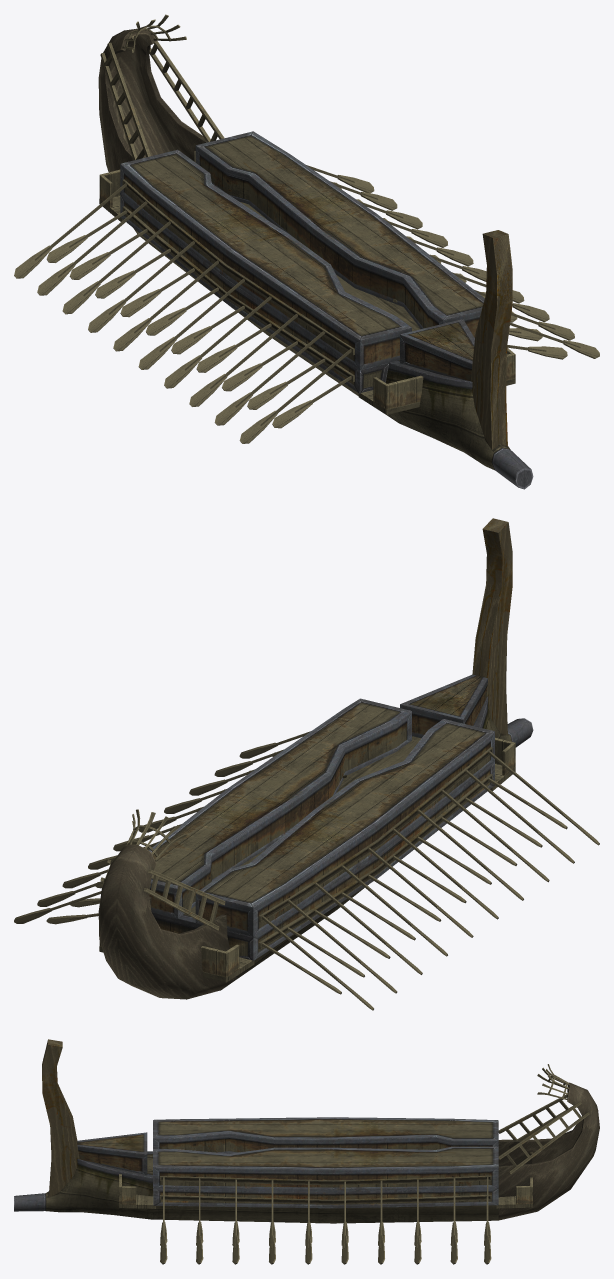
Rendered from GodWar_Romanship01_001.FBX.
3 renders of one model, top to bottom at view 1: azimuth 30°, elevation 25°; view 2: azimuth 150°, elevation 25°; view 3: azimuth 270°, elevation 25°, orthographic. The views are drawn at different scales.
Visible parts, largest first — view 1: GodWar_Romanship01_001; view 2: GodWar_Romanship01_001; view 3: GodWar_Romanship01_001.
Boxes of the visible parts, bbox=[...] form: GodWar_Romanship01_001: bbox=[14, 14, 599, 489]; GodWar_Romanship01_001: bbox=[14, 518, 599, 1010]; GodWar_Romanship01_001: bbox=[14, 1039, 599, 1264].
Bounding box in the file's own units: 3100 × 1987 × 6091.
Materials: 1 (1 with a texture image).
